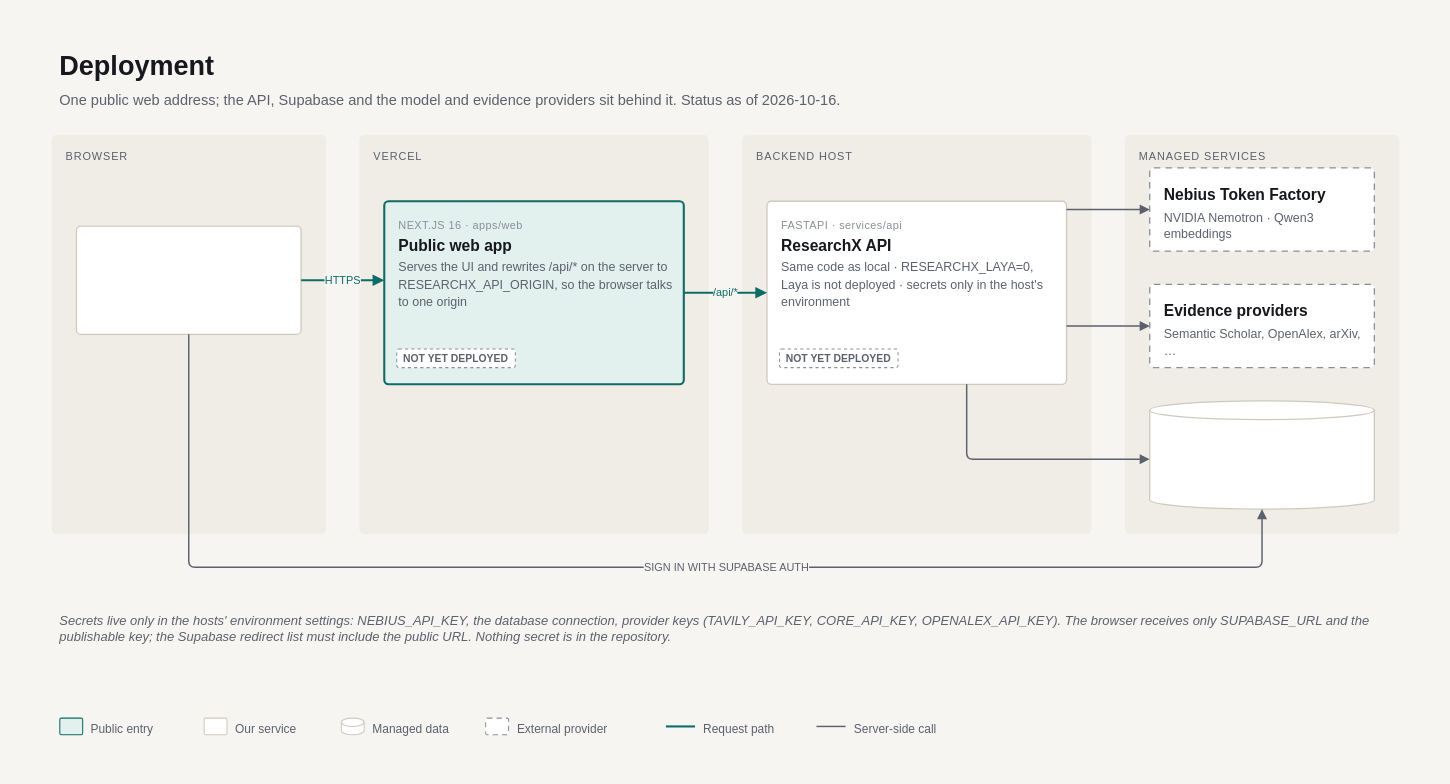
The diagram is 1450 pixels wide and 784 high, and some of its shapes have lost their labels. Here are the shapes that lost their labels. From the top down, the centre of each, then its label:
At (x=188, y=280): "Researcher or judge Opens one public URL".
At (x=1262, y=454): "Supabase Postgres (rx, pgvector, RLS) · Auth · Storage".
